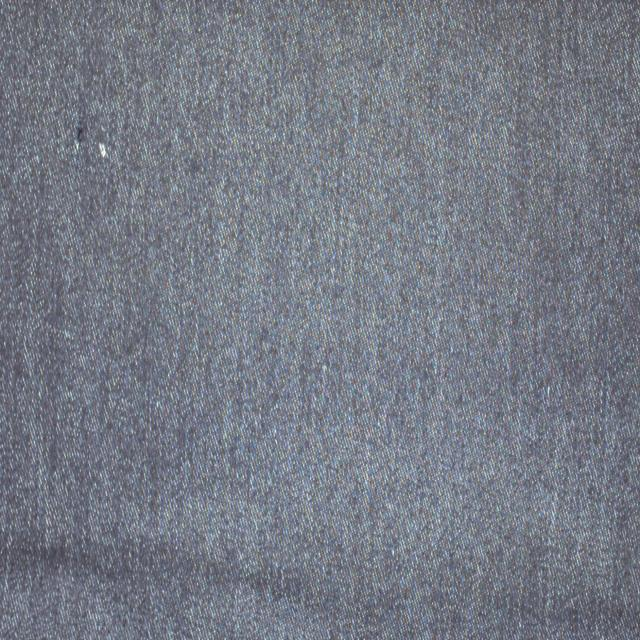Hole: (74, 124, 85, 150)
